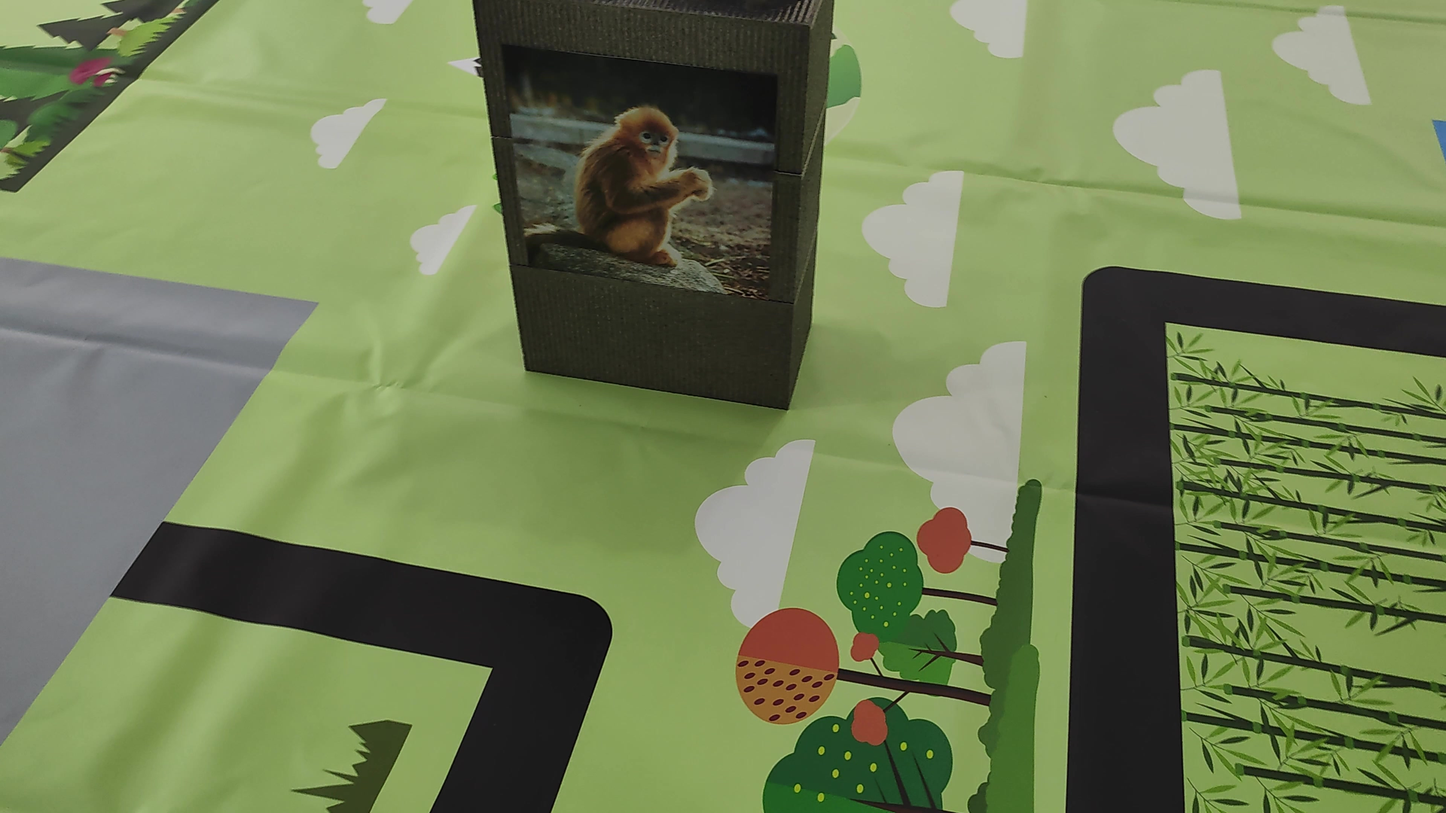monkey: (519, 83, 740, 285)
